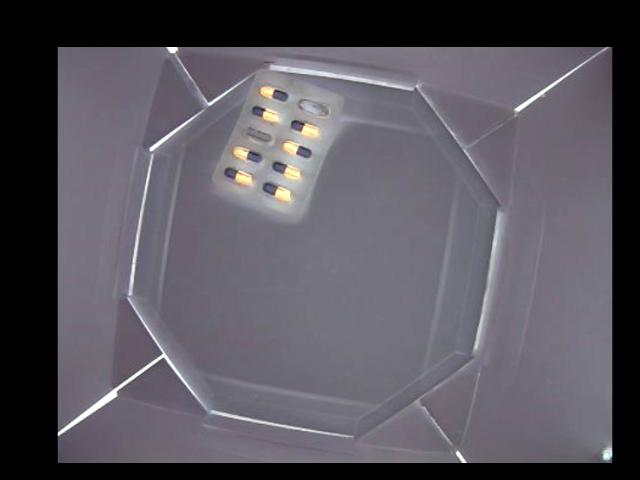Medicine: (210, 67, 345, 222)
